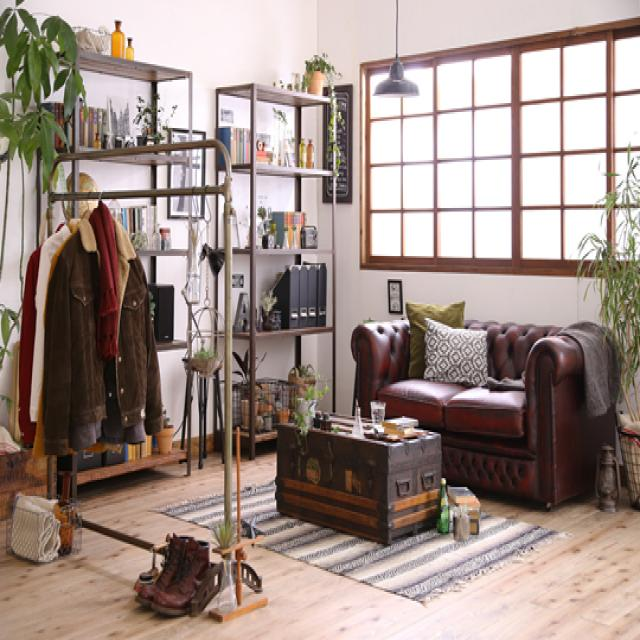vintage desk: (272, 410, 442, 539)
vintage shelf: (214, 74, 335, 458)
vintage sofa: (350, 309, 620, 519)
